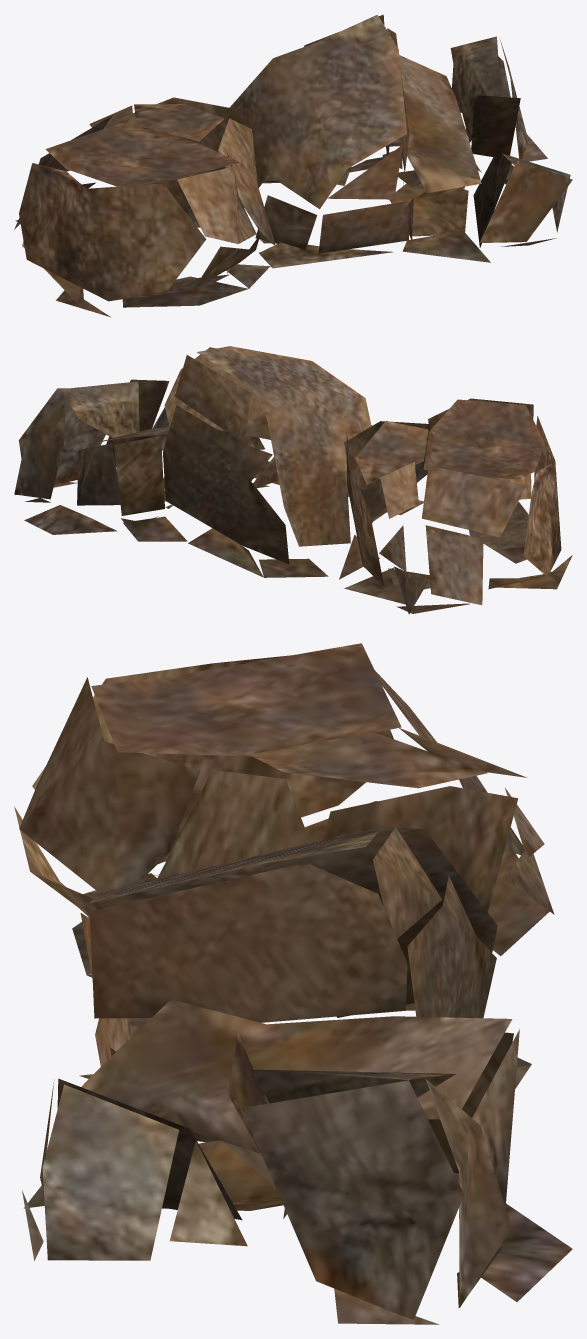
The model's file is boulder.glb.
3 renders of one model, top to bottom at view 1: azimuth 30°, elevation 25°; view 2: azimuth 150°, elevation 25°; view 3: azimuth 270°, elevation 25°, orthographic. The views are drawn at different scales.
Visible parts, largest first — view 1: boulder_02; view 2: boulder_02; view 3: boulder_02.
Boxes of the visible parts, x1,y1,x2,y2 form: boulder_02: [14, 14, 572, 317]; boulder_02: [14, 346, 572, 614]; boulder_02: [14, 643, 572, 1324].
Size of the model in its own units: 2.45 by 0.8228 by 1.22.
Materials: 1 (1 with a texture image).
